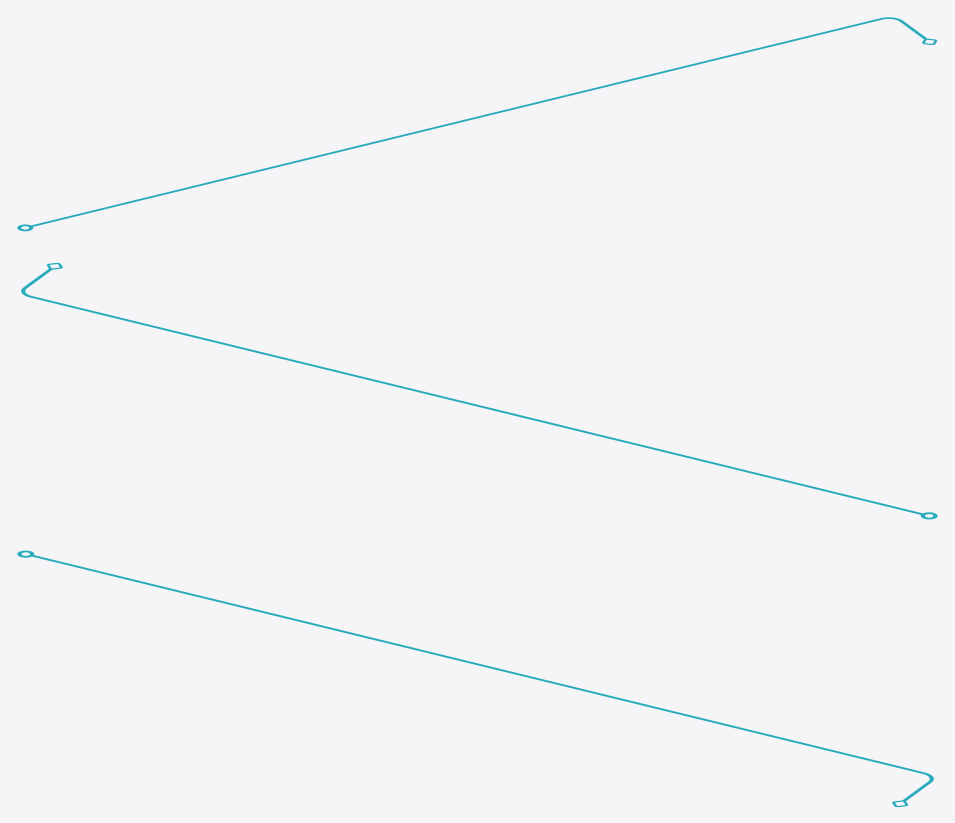
The model's file is 11_1_cl_inactive.glb.
The picture shows the model from 3 angles, top to bottom: view 1: azimuth 30°, elevation 25°; view 2: azimuth 150°, elevation 25°; view 3: azimuth 330°, elevation 25°; orthographic projection. The views are drawn at different scales.
Visible parts, largest first — view 1: 11_1_cl_inactive; view 2: 11_1_cl_inactive; view 3: 11_1_cl_inactive.
Part boxes in pixels (x1,y1,x2,y2): 11_1_cl_inactive: (17, 17, 937, 231); 11_1_cl_inactive: (21, 262, 937, 519); 11_1_cl_inactive: (17, 550, 933, 807).
Size of the model in its own units: 20.34 by 1.45e-08 by 1.75.
1 material, 1 textured.
